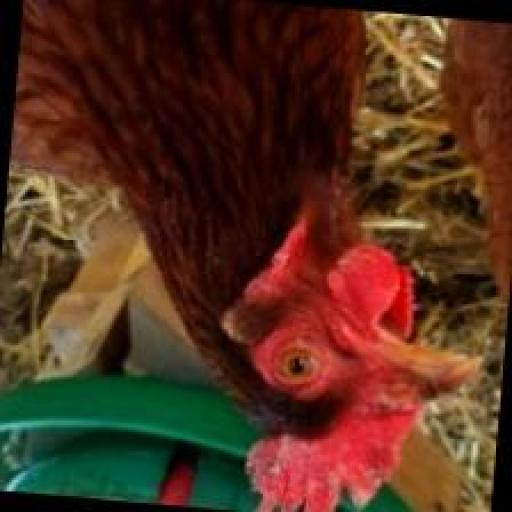disease: (246, 393, 427, 510)
